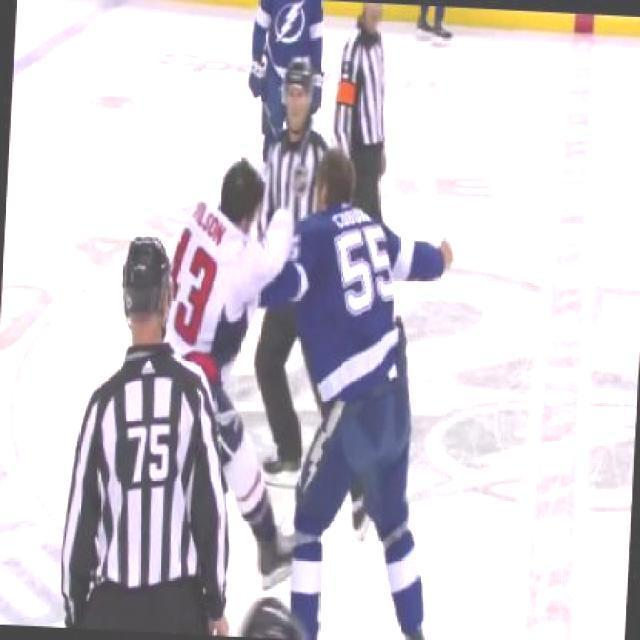fight: (140, 136, 462, 638)
